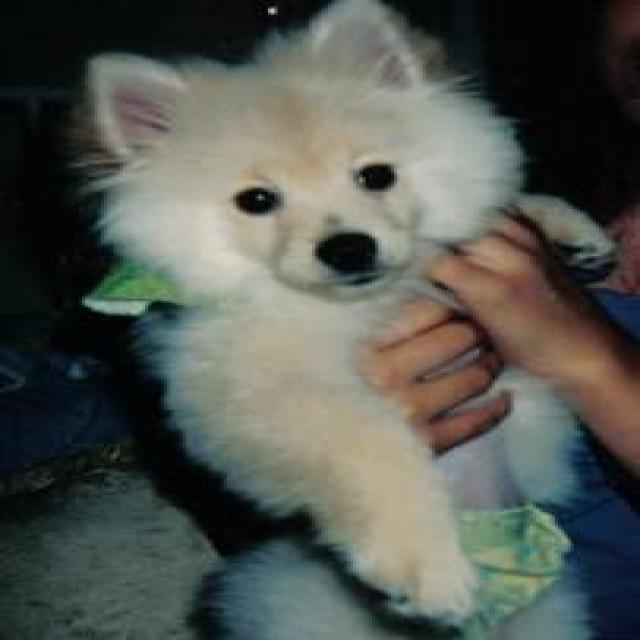dog-pomeranian: (66, 2, 580, 636)
